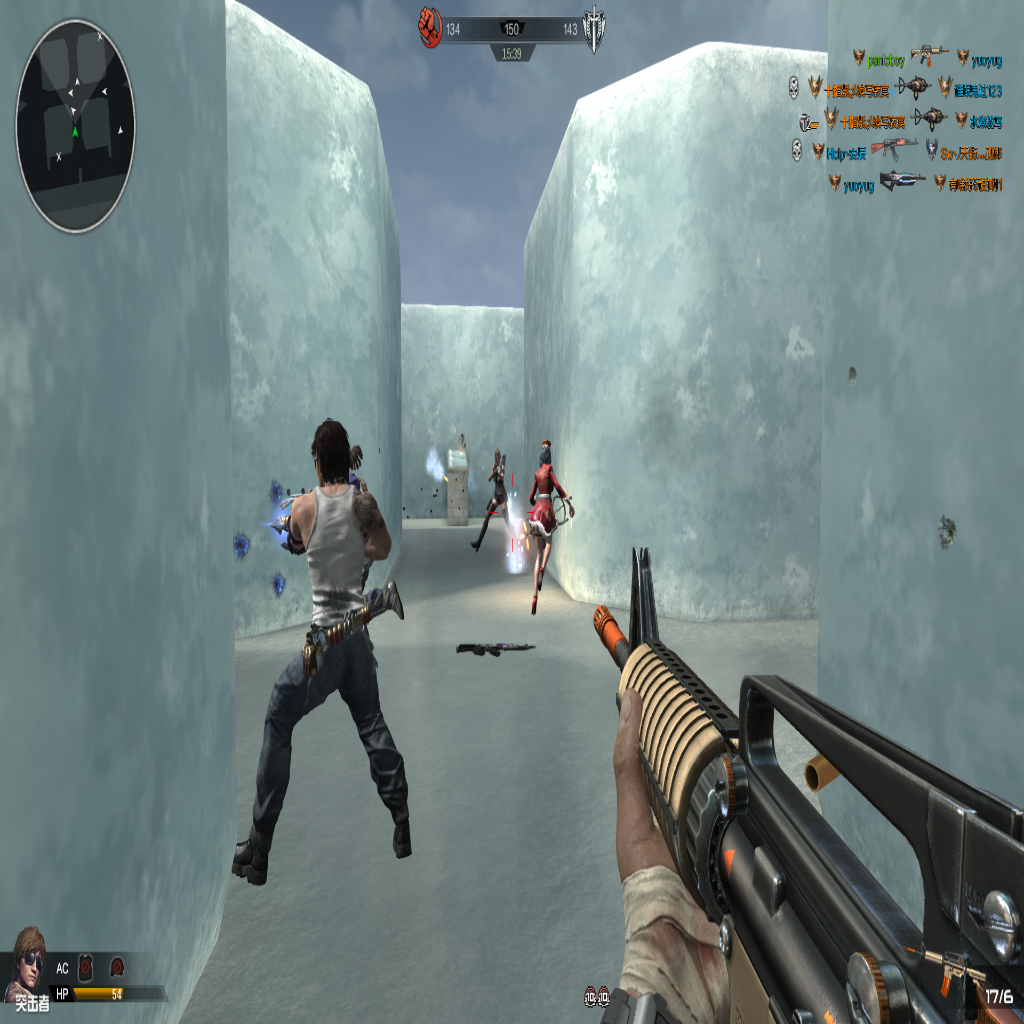ct: (474, 448, 513, 552)
tt: (230, 401, 414, 883), (526, 435, 573, 608)
